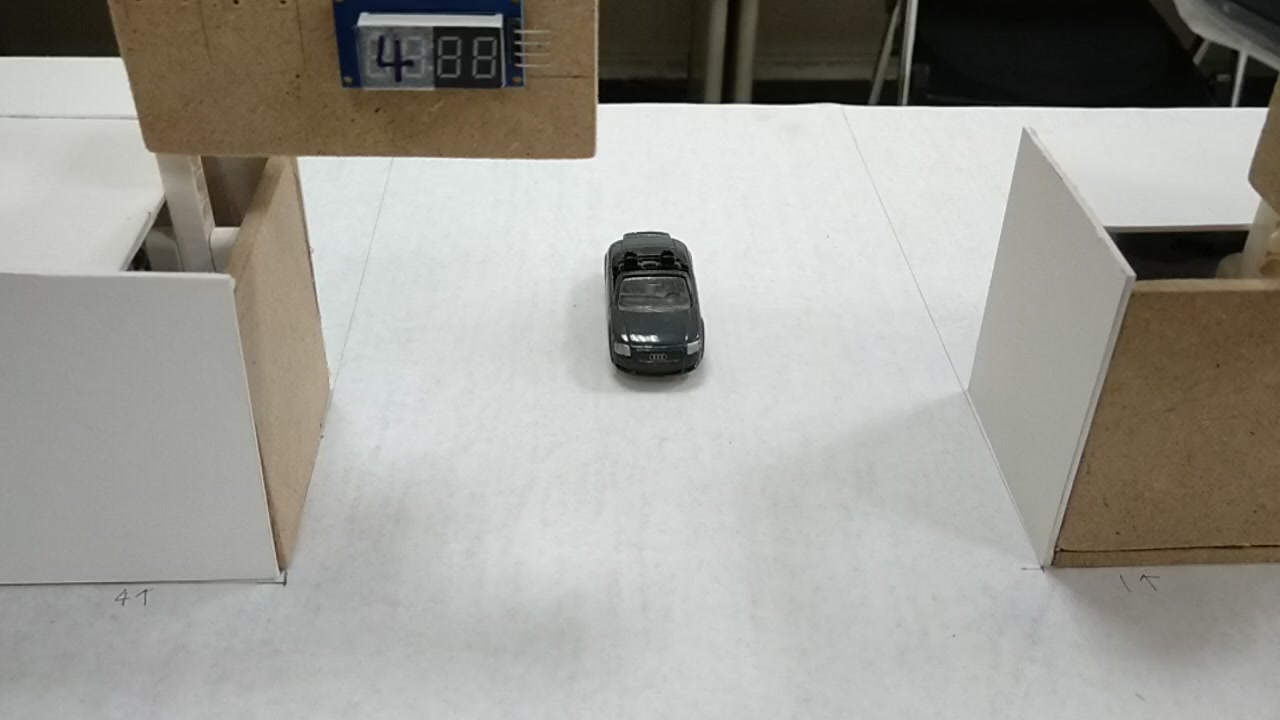car: (594, 228, 712, 375)
